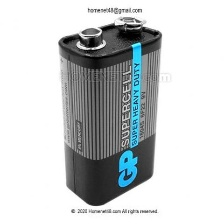battery: (54, 14, 166, 209)
